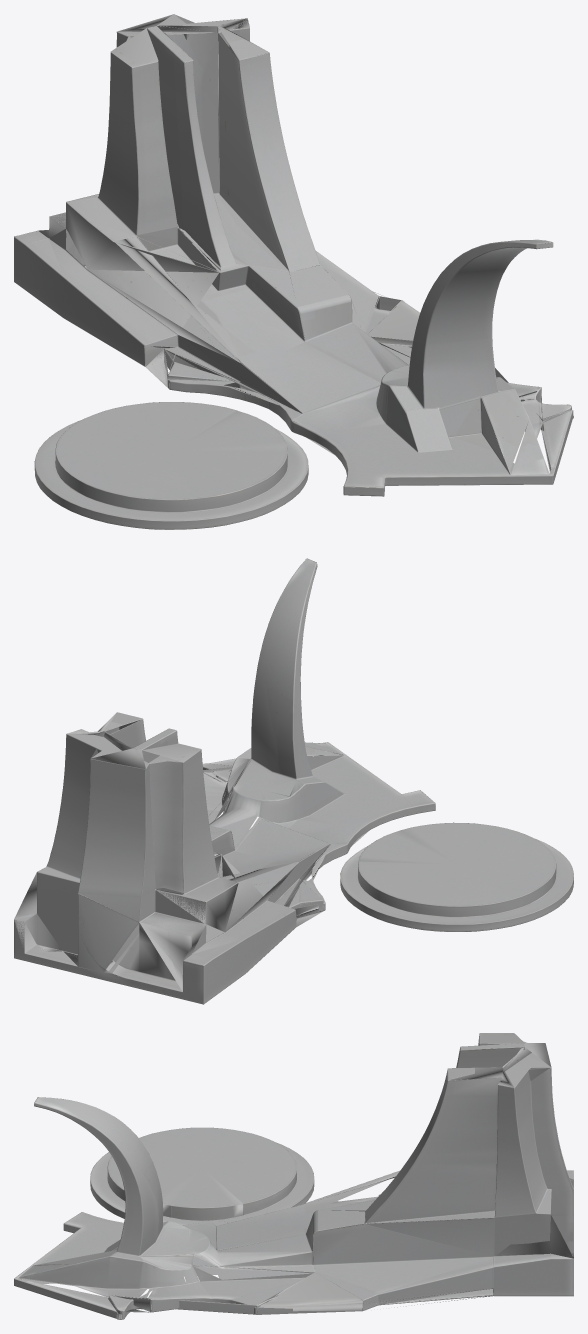
The model's file is escenavet.glb.
3 renders of one model, top to bottom at view 1: azimuth 30°, elevation 25°; view 2: azimuth 150°, elevation 25°; view 3: azimuth 270°, elevation 25°, orthographic. The views are drawn at different scales.
Visible parts, largest first — view 1: tripo_node_7b9592cf-c1d5-4199-8746-21872edf534b; view 2: tripo_node_7b9592cf-c1d5-4199-8746-21872edf534b; view 3: tripo_node_7b9592cf-c1d5-4199-8746-21872edf534b.
Part boxes in pixels (bbox=[...]): tripo_node_7b9592cf-c1d5-4199-8746-21872edf534b: bbox=[14, 14, 573, 529]; tripo_node_7b9592cf-c1d5-4199-8746-21872edf534b: bbox=[14, 558, 573, 1004]; tripo_node_7b9592cf-c1d5-4199-8746-21872edf534b: bbox=[14, 1033, 573, 1319].
Size of the model in its own units: 0.7925 by 0.4155 by 0.9995.
Materials: 1 (1 with a texture image).
